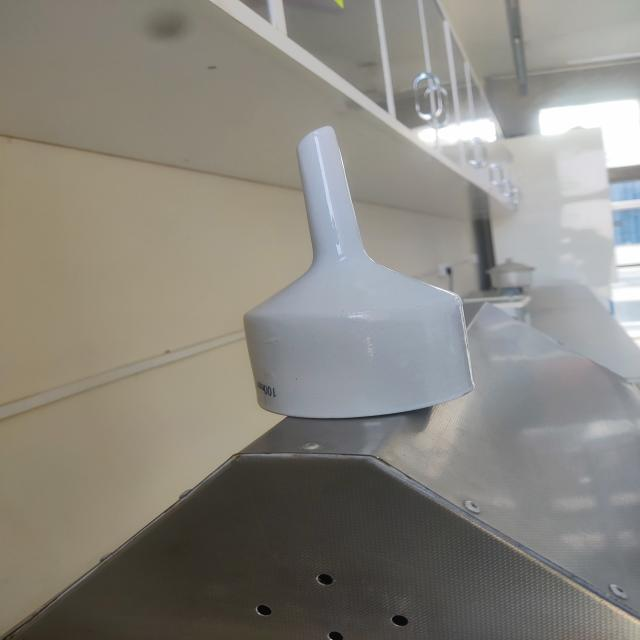Buchner_Funnel: (203, 75, 531, 467)
